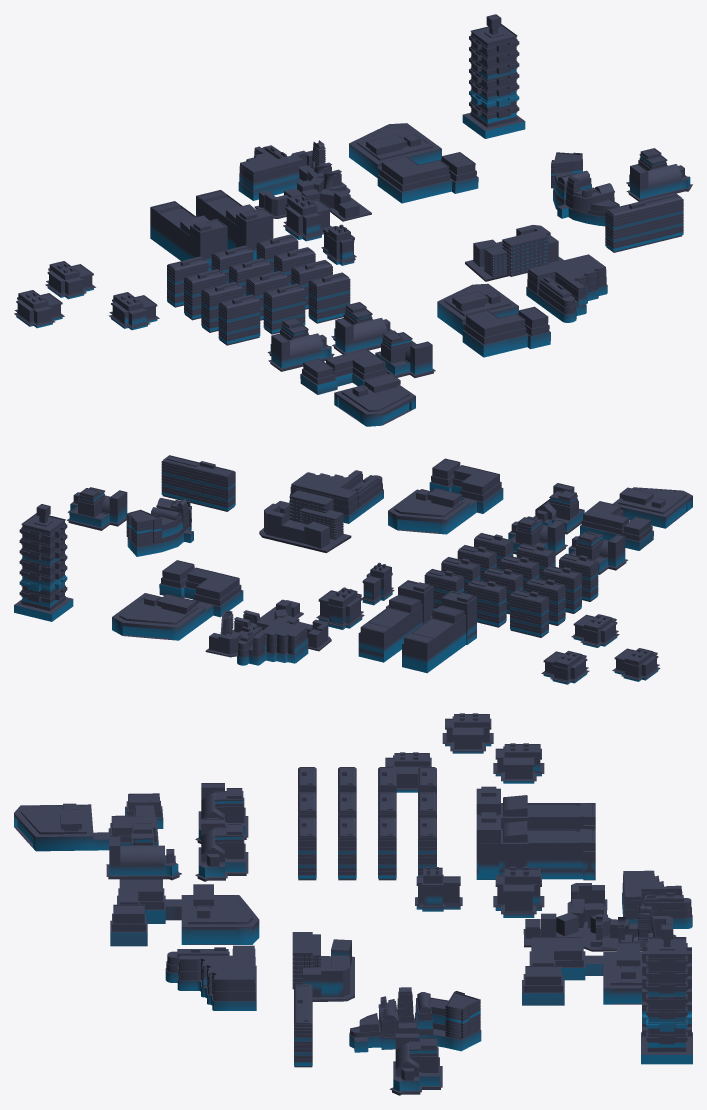
Rendered from building-o.gltf.
3 renders of one model, top to bottom at view 1: azimuth 30°, elevation 25°; view 2: azimuth 150°, elevation 25°; view 3: azimuth 270°, elevation 25°, orthographic. The views are drawn at different scales.
Parts seen in each view (by area): view 1: Cube.8, Cube.20, Cube.1, Cube.10, Cube.2, Cube, Cube.5, Cube.17, Cube.3, 空白.1, Cube.4, Cube.14 (+23 smaller); view 2: Cube.8, Cube.1, Cube.20, Cube.10, Cube.5, Cube.3, Cube, Cube.17, Cube.2, Cube.4, 空白, 空白.1 (+23 smaller); view 3: Cube.1, Cube.20, Cube.3, Cube.8, Cube.17, Cube.10, Cube.2, 空白.1, Cube.5, Cube.6, Cube.4, Cube.21 (+15 smaller).
Boxes of the visible parts, <box> form: Cube.8: <box>349,123,478,203</box>; Cube.20: <box>462,14,525,138</box>; Cube.1: <box>437,283,550,357</box>; Cube.10: <box>300,348,415,426</box>; Cube.2: <box>526,254,607,322</box>; Cube: <box>605,193,683,252</box>; Cube.5: <box>150,201,227,271</box>; Cube.17: <box>551,152,619,226</box>; Cube.3: <box>196,190,273,260</box>; 空白.1: <box>254,150,371,221</box>; Cube.4: <box>238,145,300,200</box>; Cube.14: <box>626,148,692,201</box>; Cube.8: <box>112,560,243,640</box>; Cube.1: <box>388,458,503,534</box>; Cube.20: <box>14,504,73,621</box>; Cube.10: <box>580,487,692,550</box>; Cube.5: <box>402,590,476,673</box>; Cube.3: <box>358,580,433,662</box>; Cube: <box>161,455,235,511</box>; Cube.17: <box>126,498,193,556</box>; Cube.2: <box>289,470,383,523</box>; Cube.4: <box>237,617,308,665</box>; 空白: <box>259,501,351,553</box>; 空白.1: <box>205,599,331,657</box>; Cube.1: <box>110,879,259,946</box>; Cube.20: <box>641,924,692,1064</box>; Cube.3: <box>476,812,595,880</box>; Cube.8: <box>522,937,641,1005</box>; Cube.17: <box>349,987,481,1052</box>; Cube.10: <box>14,793,163,851</box>; Cube.2: <box>165,945,256,1010</box>; 空白.1: <box>523,883,676,951</box>; Cube.5: <box>476,786,595,828</box>; Cube.6: <box>106,823,181,880</box>; Cube.4: <box>622,870,692,928</box>; Cube.21: <box>195,819,248,881</box>.
Bounding box in the file's own units: 10.7 × 1.8 × 8.47.
Materials: 35 (35 with a texture image).
